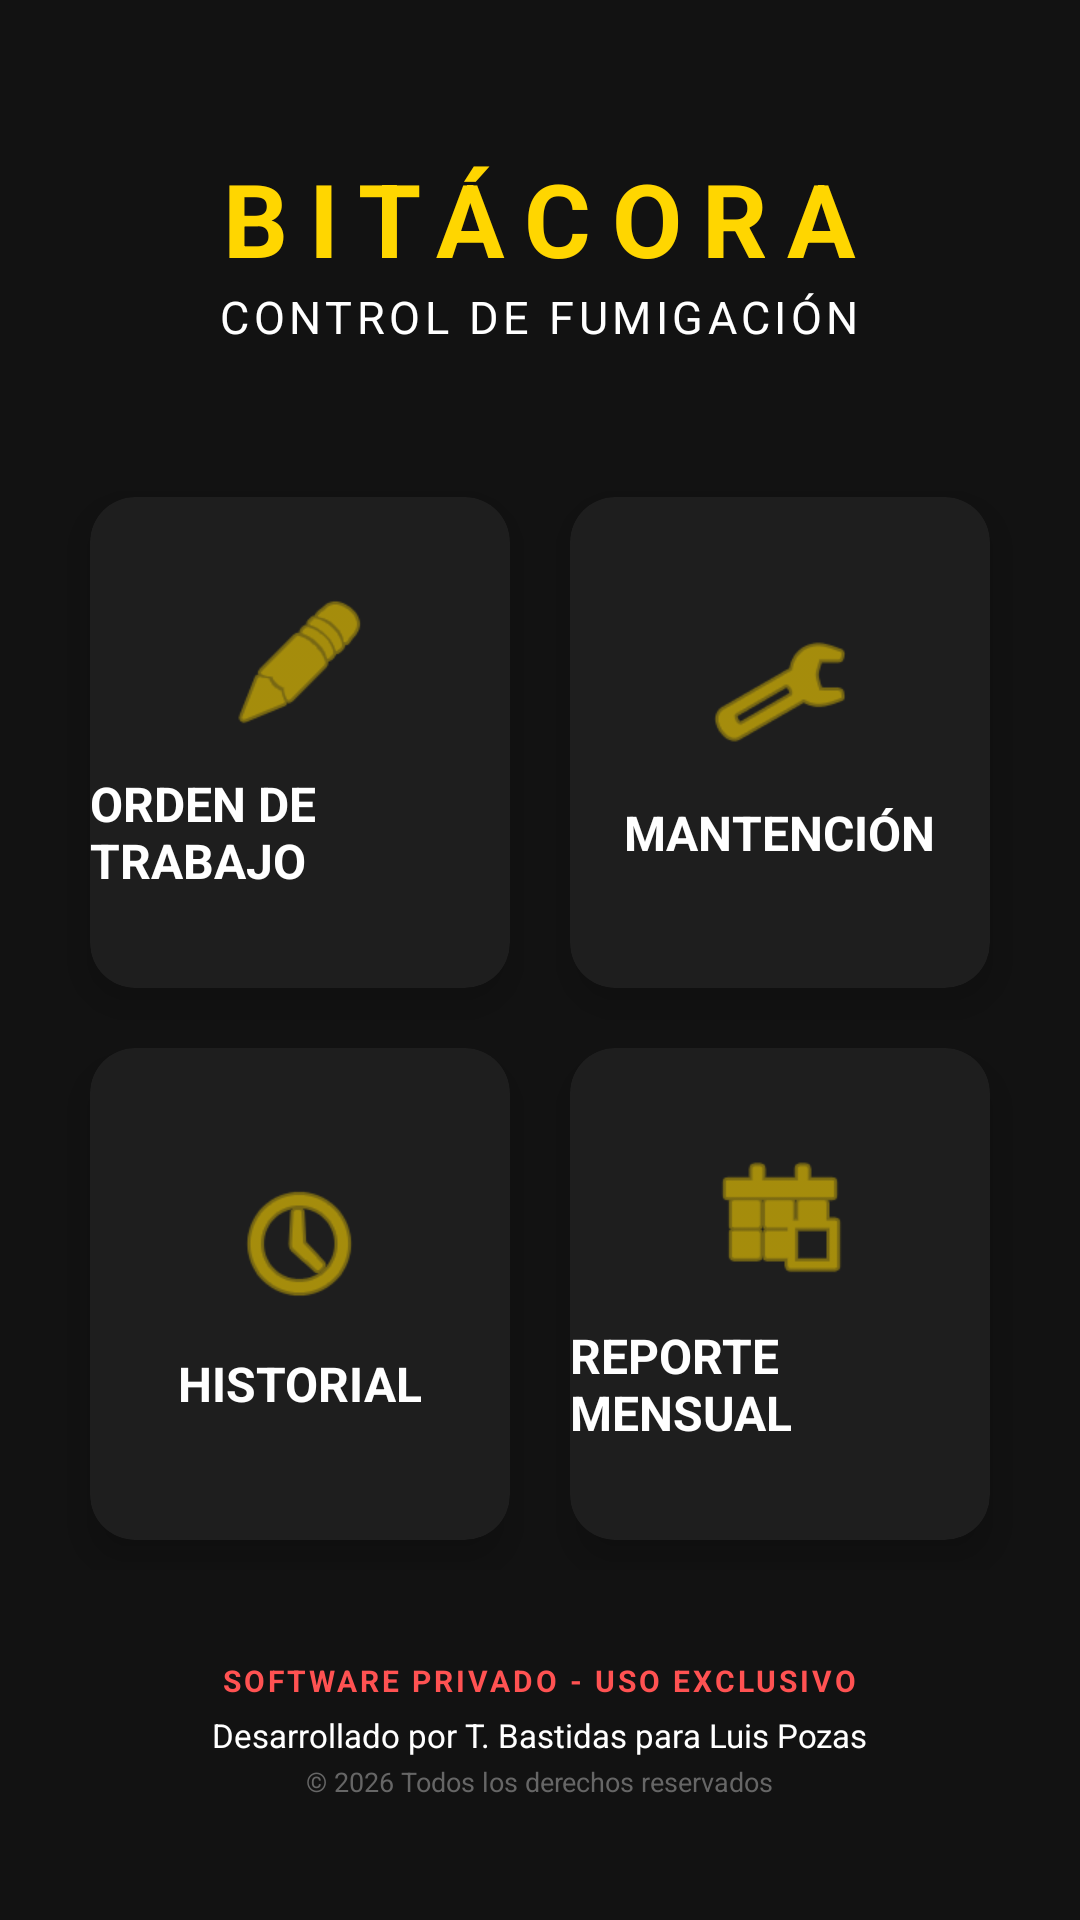

Named icons in this screenshot (1080w x 1920h) and their bounding boxes, (x1, y1, x2, y2):
edit: (238, 601, 360, 723)
manage: (715, 642, 845, 742)
recent history: (247, 1192, 351, 1296)
today: (722, 1162, 841, 1272)
